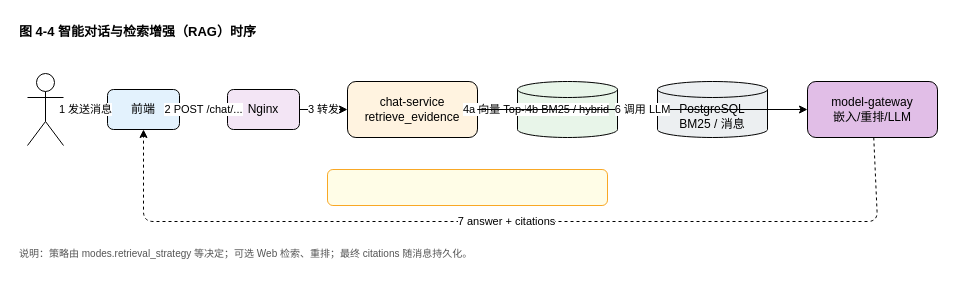
This 955x294 diagram has some shape labels left out. The centre of each missing label's shape, as x and y in pixels:
Qdrant 向量检索: (x=567, y=109)
⑤ 在 chat-service 内：RRF 融合 / rerank / build_citations: (x=467, y=187)
用户: (x=45, y=109)
